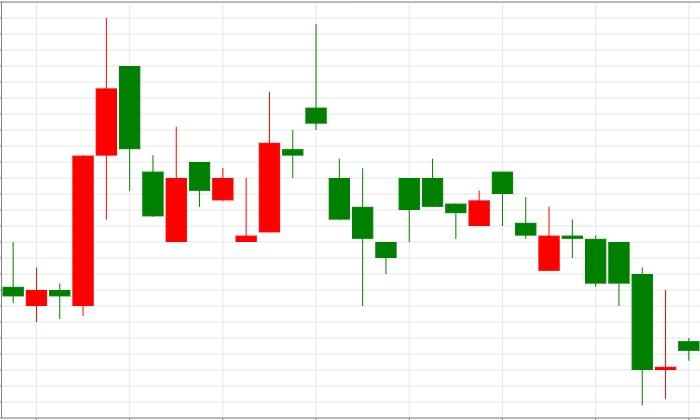shooting_star_fall: (235, 24, 327, 243)
